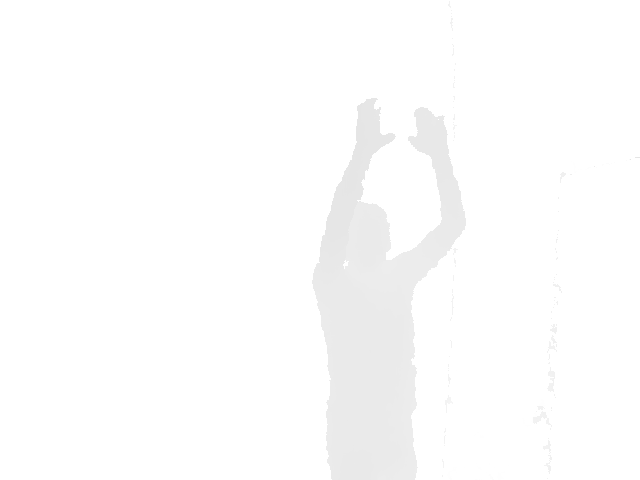hand: (353, 96, 396, 156), (406, 106, 451, 156)
head: (348, 200, 394, 262)
person: (310, 96, 467, 480)
